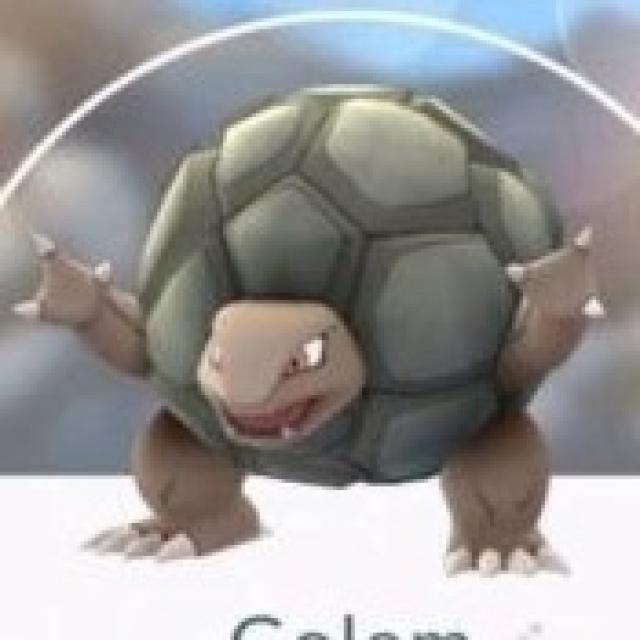Golem: (18, 78, 615, 578)
